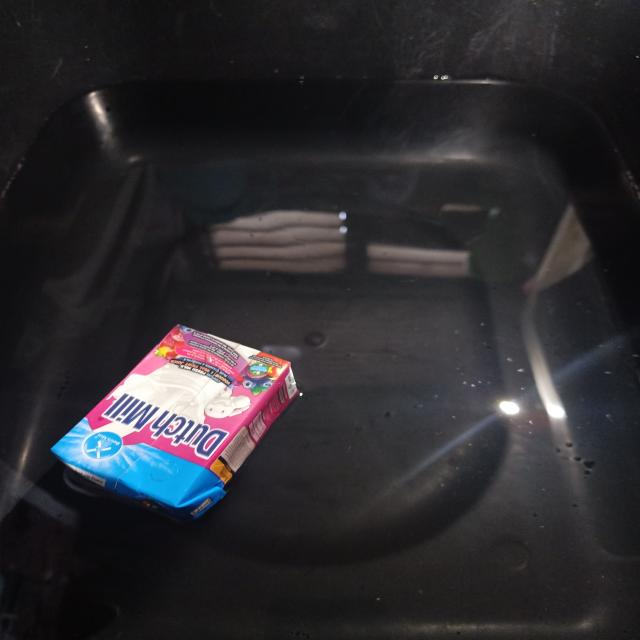Cardboard Box: (52, 324, 299, 519)
